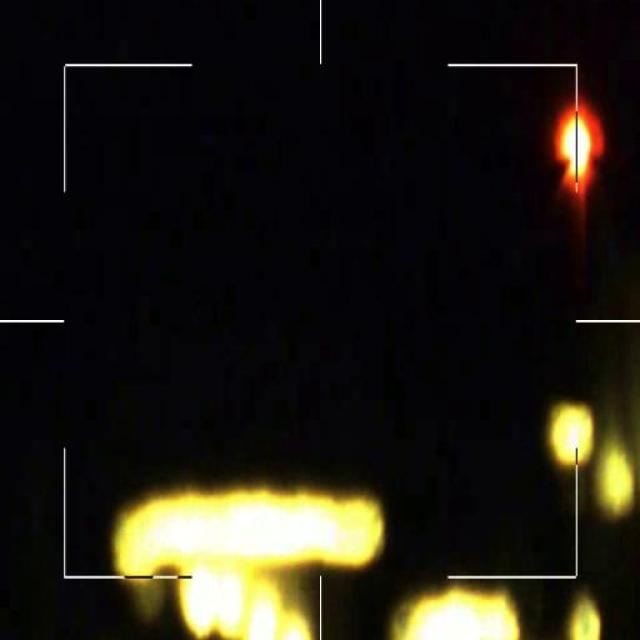bird: (552, 101, 602, 189)
